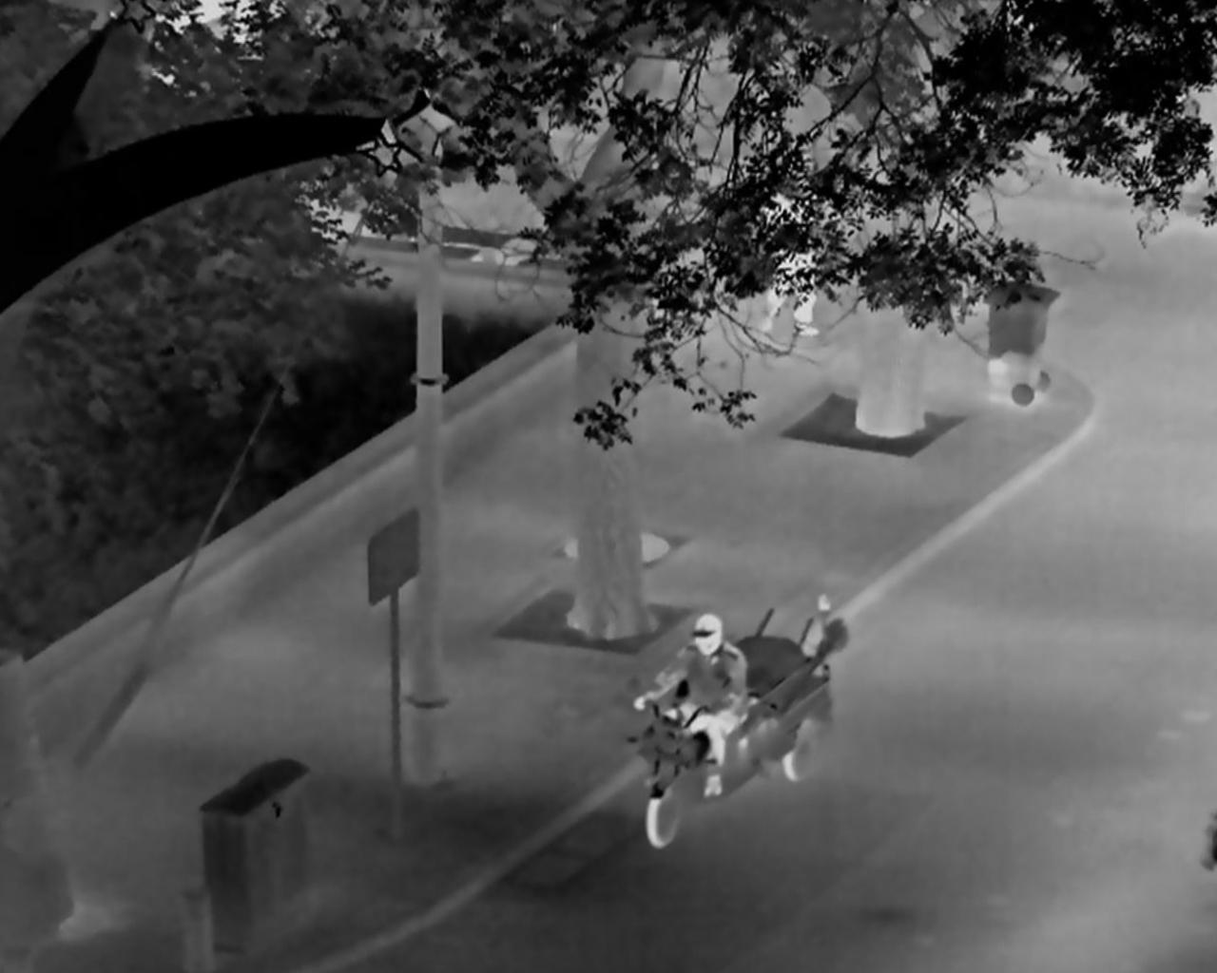person: (632, 612, 746, 799), (752, 154, 824, 337)
